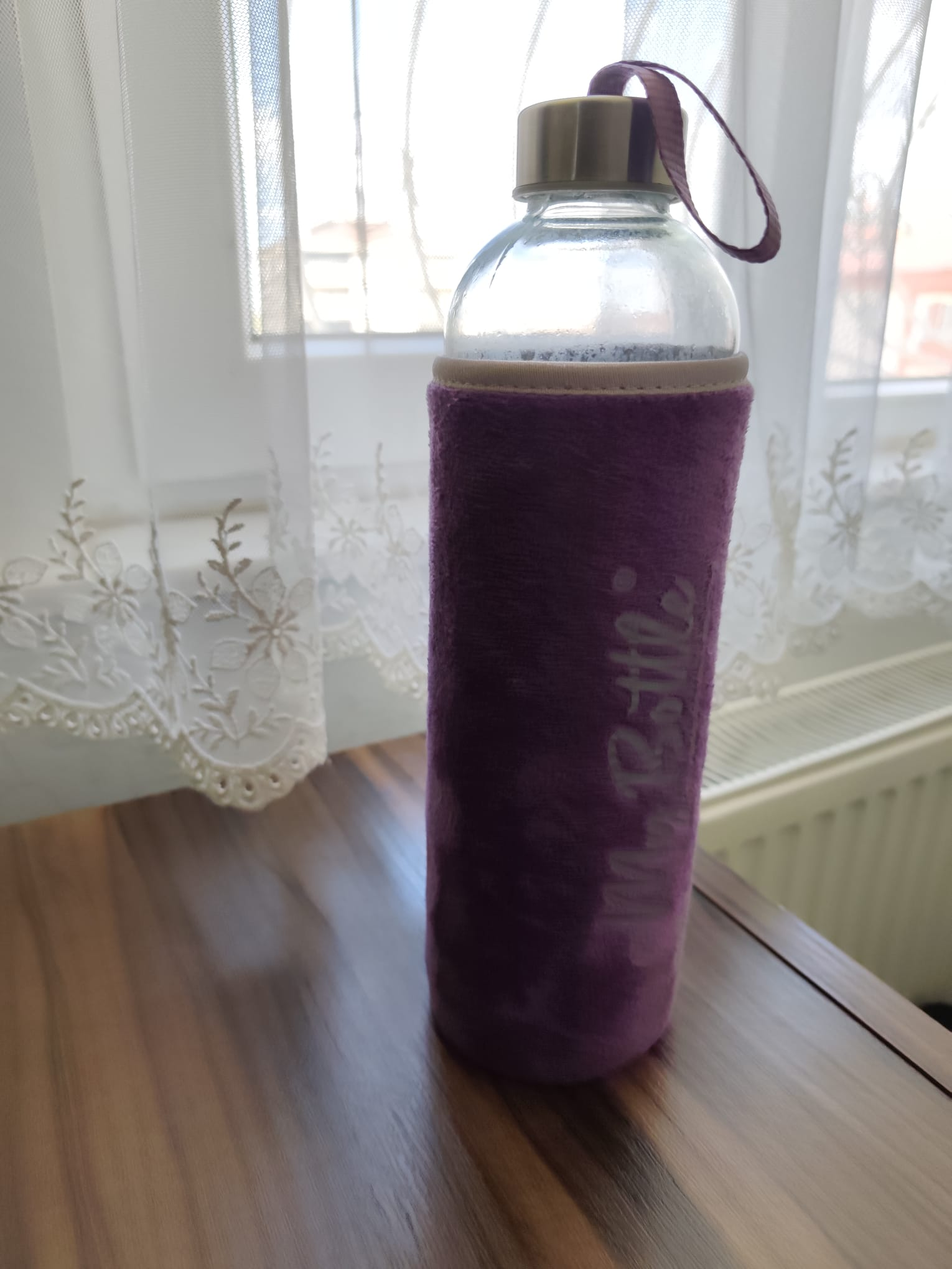su_sisesi: (408, 50, 790, 1096)
